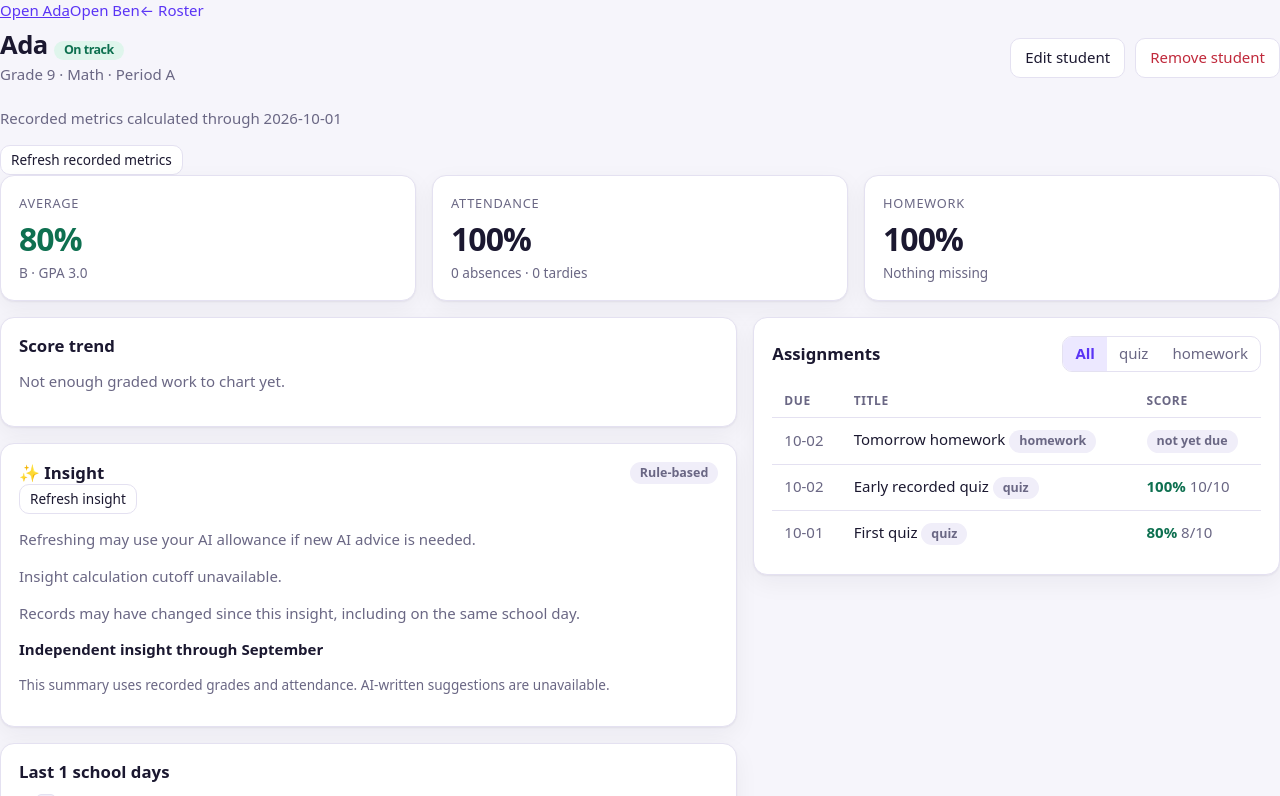
Test: retains the actual profile editor DOM and drafts after an ordinary background read failure
Expected: the heading "Ada On track" is shown, x1=0 y1=27 x2=124 y2=62
Click the button "Edit student" at (1068, 58), box x1=1010 y1=38 x2=1125 y2=78
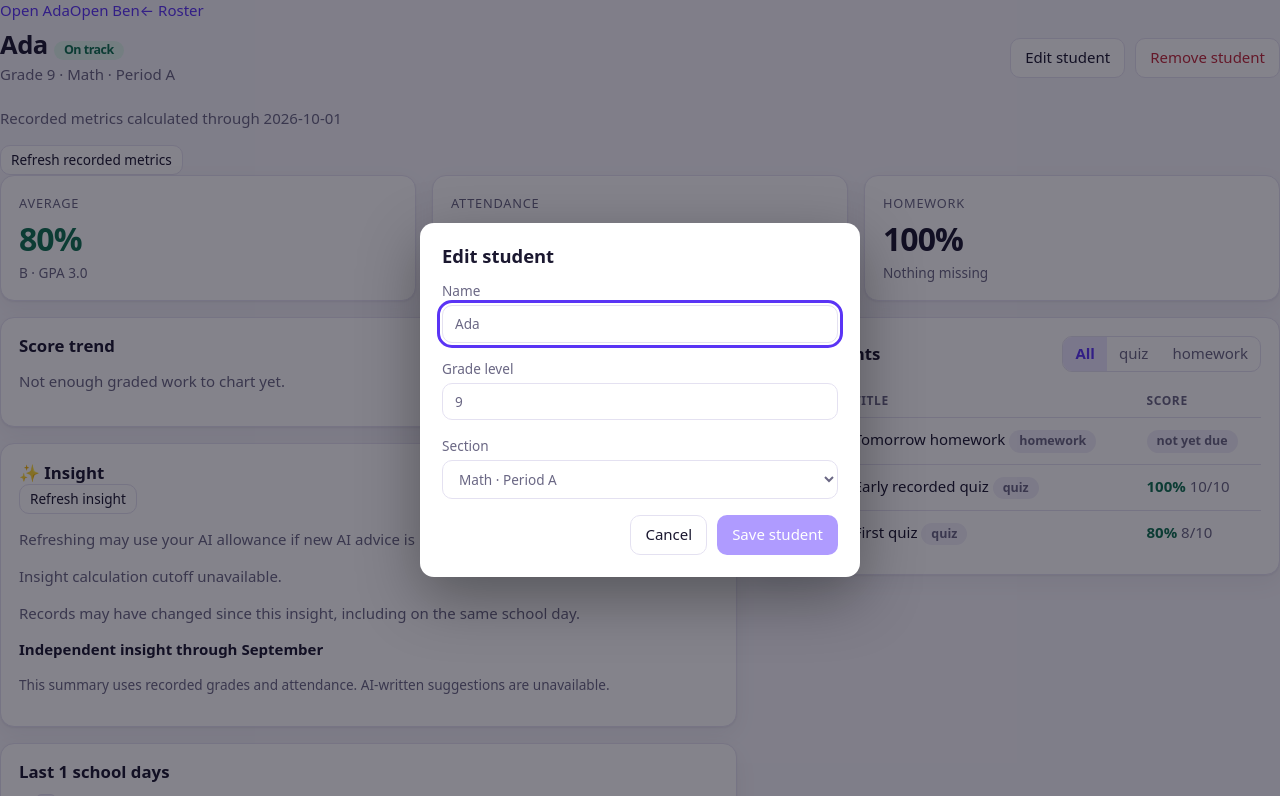
Replace the text in the field labelled "Name" with "Ada draft" at (640, 324), box x1=442 y1=305 x2=838 y2=343
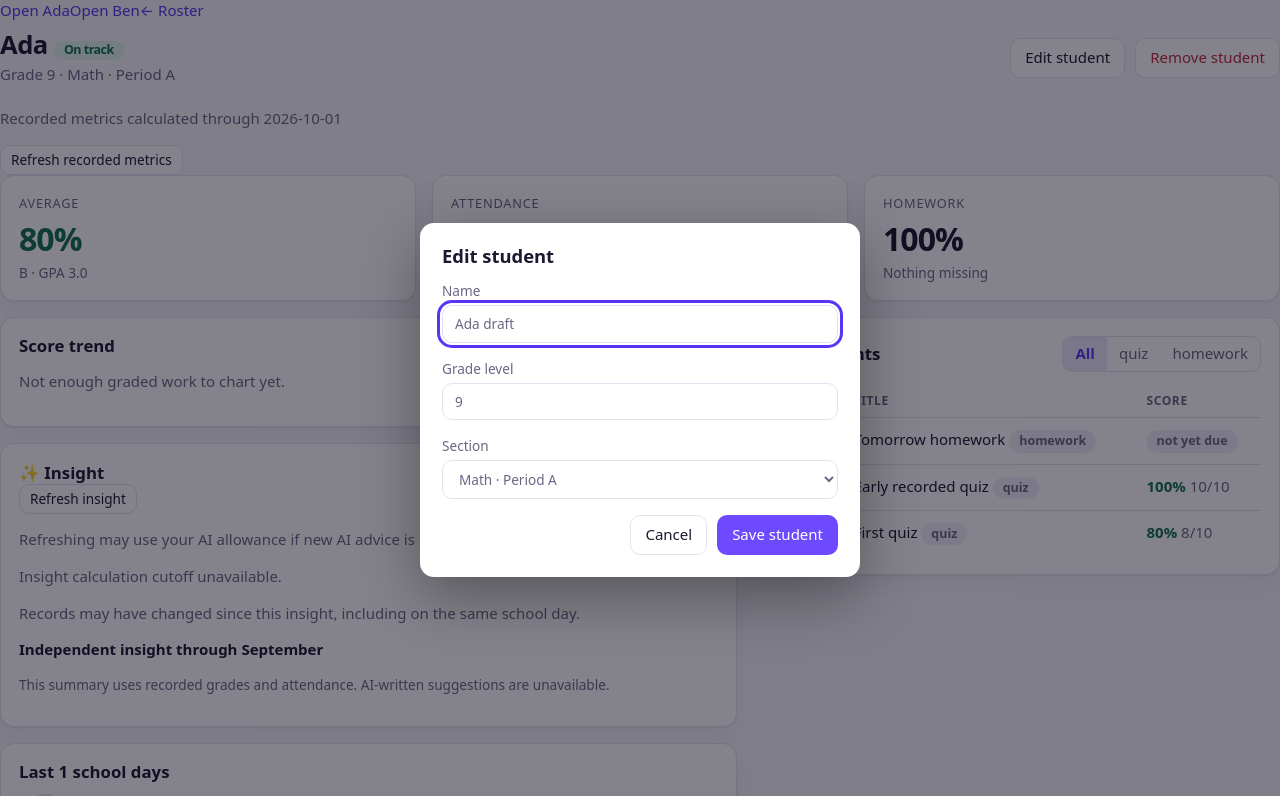
Replace the text in the number field labelled "Grade level" with "10" at (640, 401), box x1=442 y1=382 x2=838 y2=420
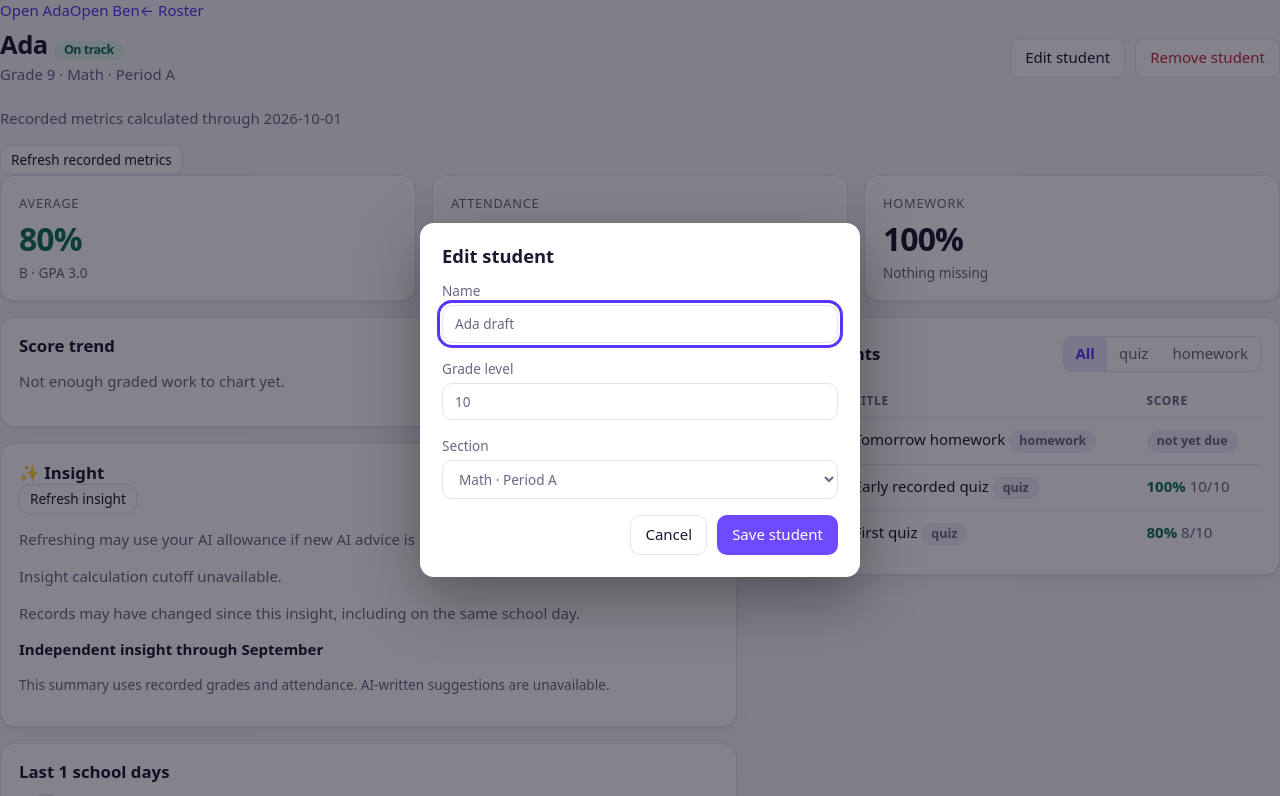
Select "Math · Period B" in the dropdown labelled "Section" at (640, 479), box x1=442 y1=460 x2=838 y2=499
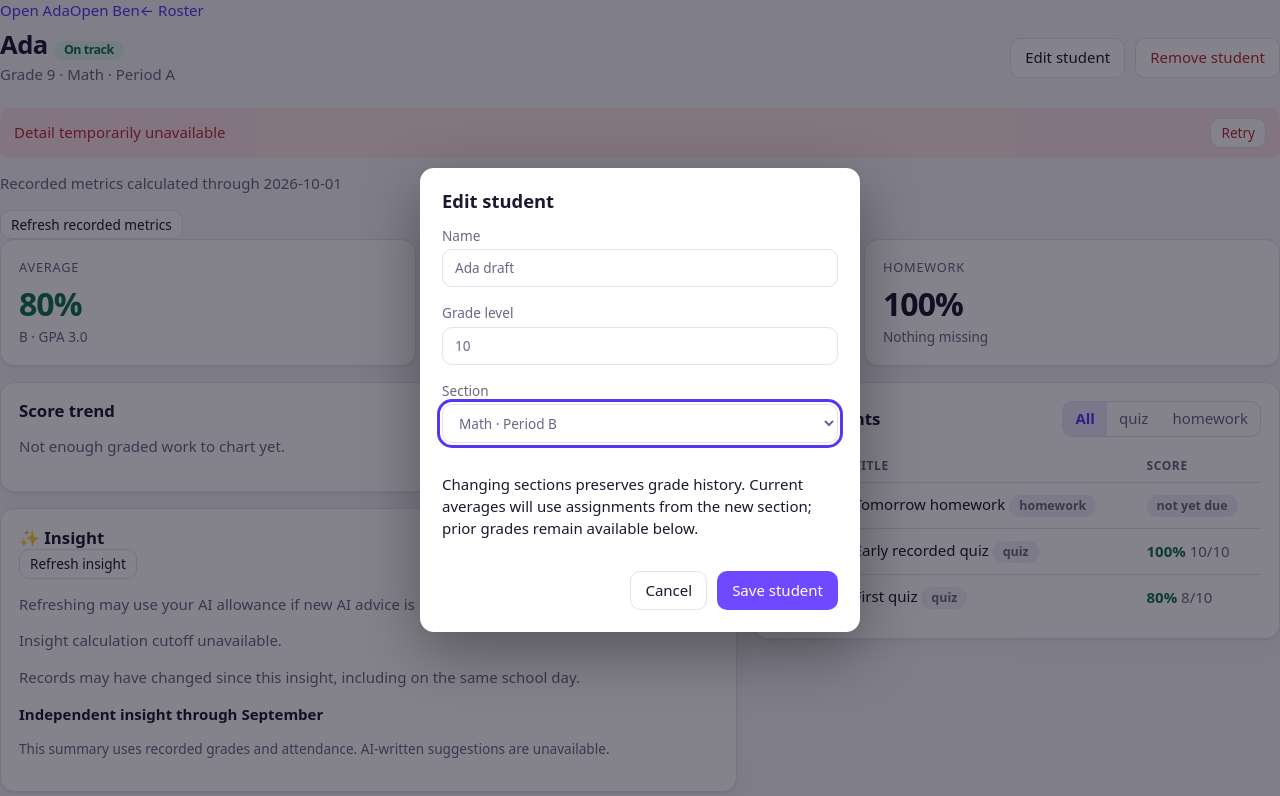
Expected: the text "Average" shows "80%", x1=19 y1=282 x2=82 y2=325
Now the text "Detail temporarily unavailable" is shown, box x1=14 y1=122 x2=226 y2=144
Now the button "Retry" is shown, box x1=1210 y1=118 x2=1266 y2=148
